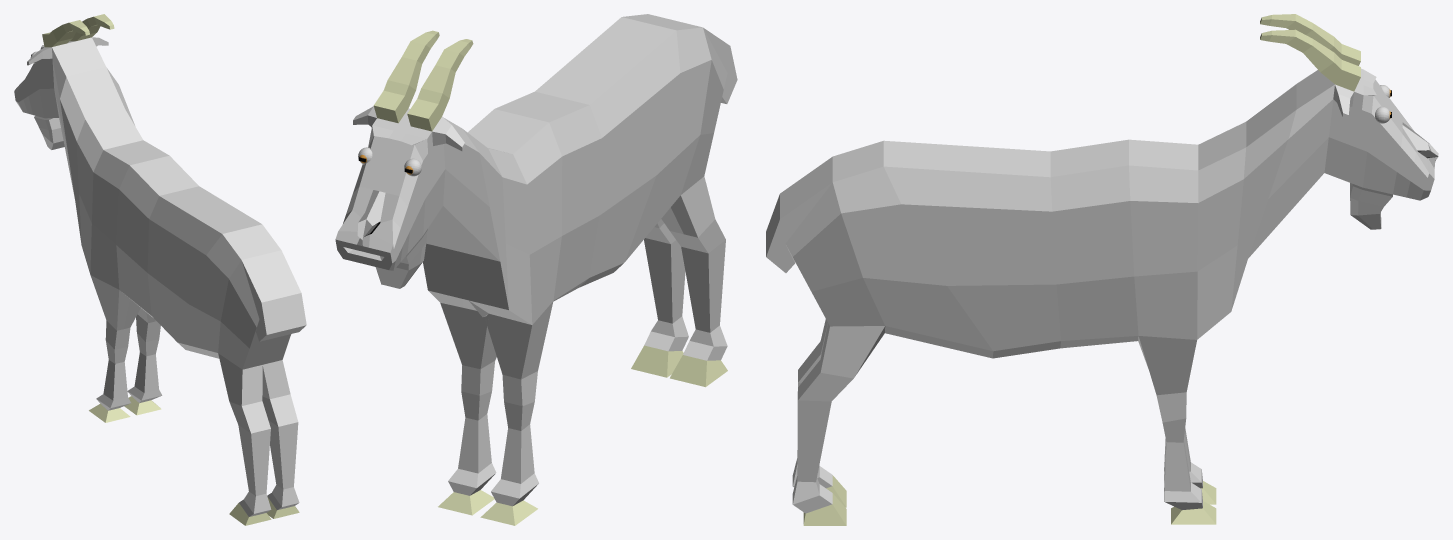
Rendered from Goat.glb.
The picture shows the model from 3 angles, left to right: view 1: azimuth 30°, elevation 25°; view 2: azimuth 150°, elevation 25°; view 3: azimuth 270°, elevation 25°; orthographic projection. The views are drawn at different scales.
Visible parts, largest first — view 1: Plane, Plane.001; view 2: Plane, Plane.001; view 3: Plane, Plane.001.
Boxes of the visible parts, bbox=[...] form: Plane: bbox=[14, 37, 306, 525]; Plane.001: bbox=[42, 14, 114, 47]; Plane: bbox=[335, 14, 737, 525]; Plane.001: bbox=[373, 30, 473, 131]; Plane: bbox=[766, 68, 1438, 525]; Plane.001: bbox=[1260, 14, 1360, 91].
Bounding box in the file's own units: 0.5581 × 2.45 × 3.09.
